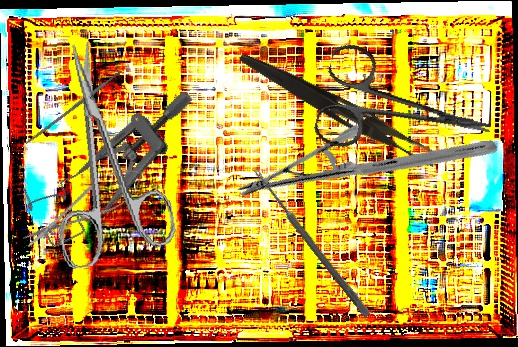Dressing Forceps: (233, 49, 444, 169)
Iris Scissors: (27, 32, 180, 271), (311, 40, 502, 183)
Micro Scissor: (16, 157, 152, 258)
Needle Holder: (236, 43, 499, 294)
Scalpel Handle: (24, 69, 124, 146)
Speculum: (10, 87, 225, 252)
Surgical Spoon: (251, 166, 372, 319)
